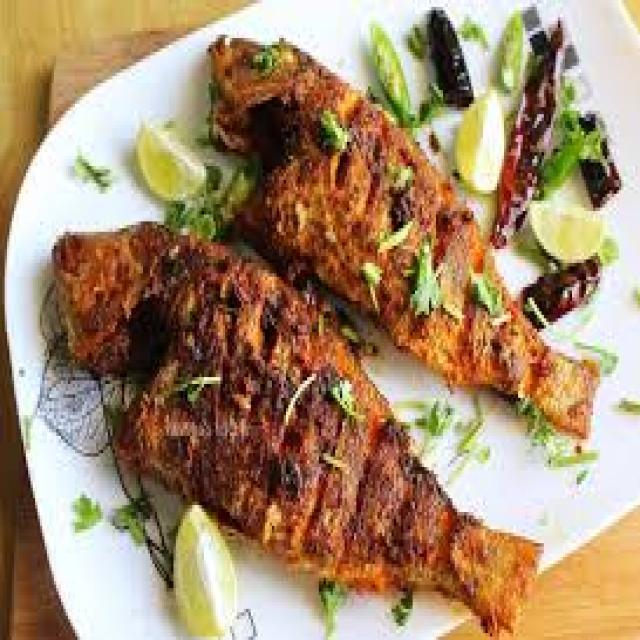Peixe: (49, 218, 544, 633), (204, 31, 600, 439)
